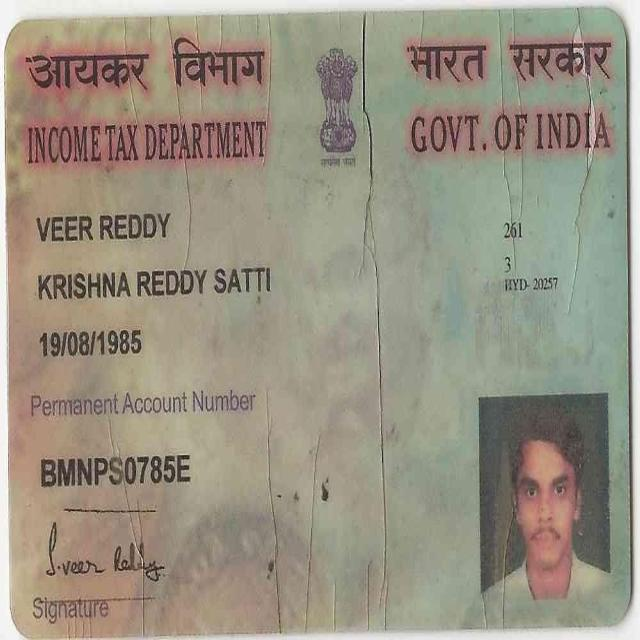pan_card: (2, 19, 626, 631)
